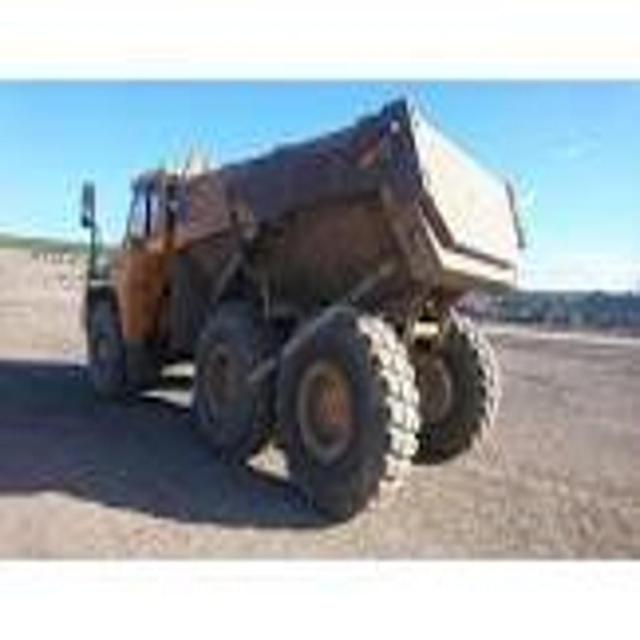dump_truck: (77, 109, 530, 526)
